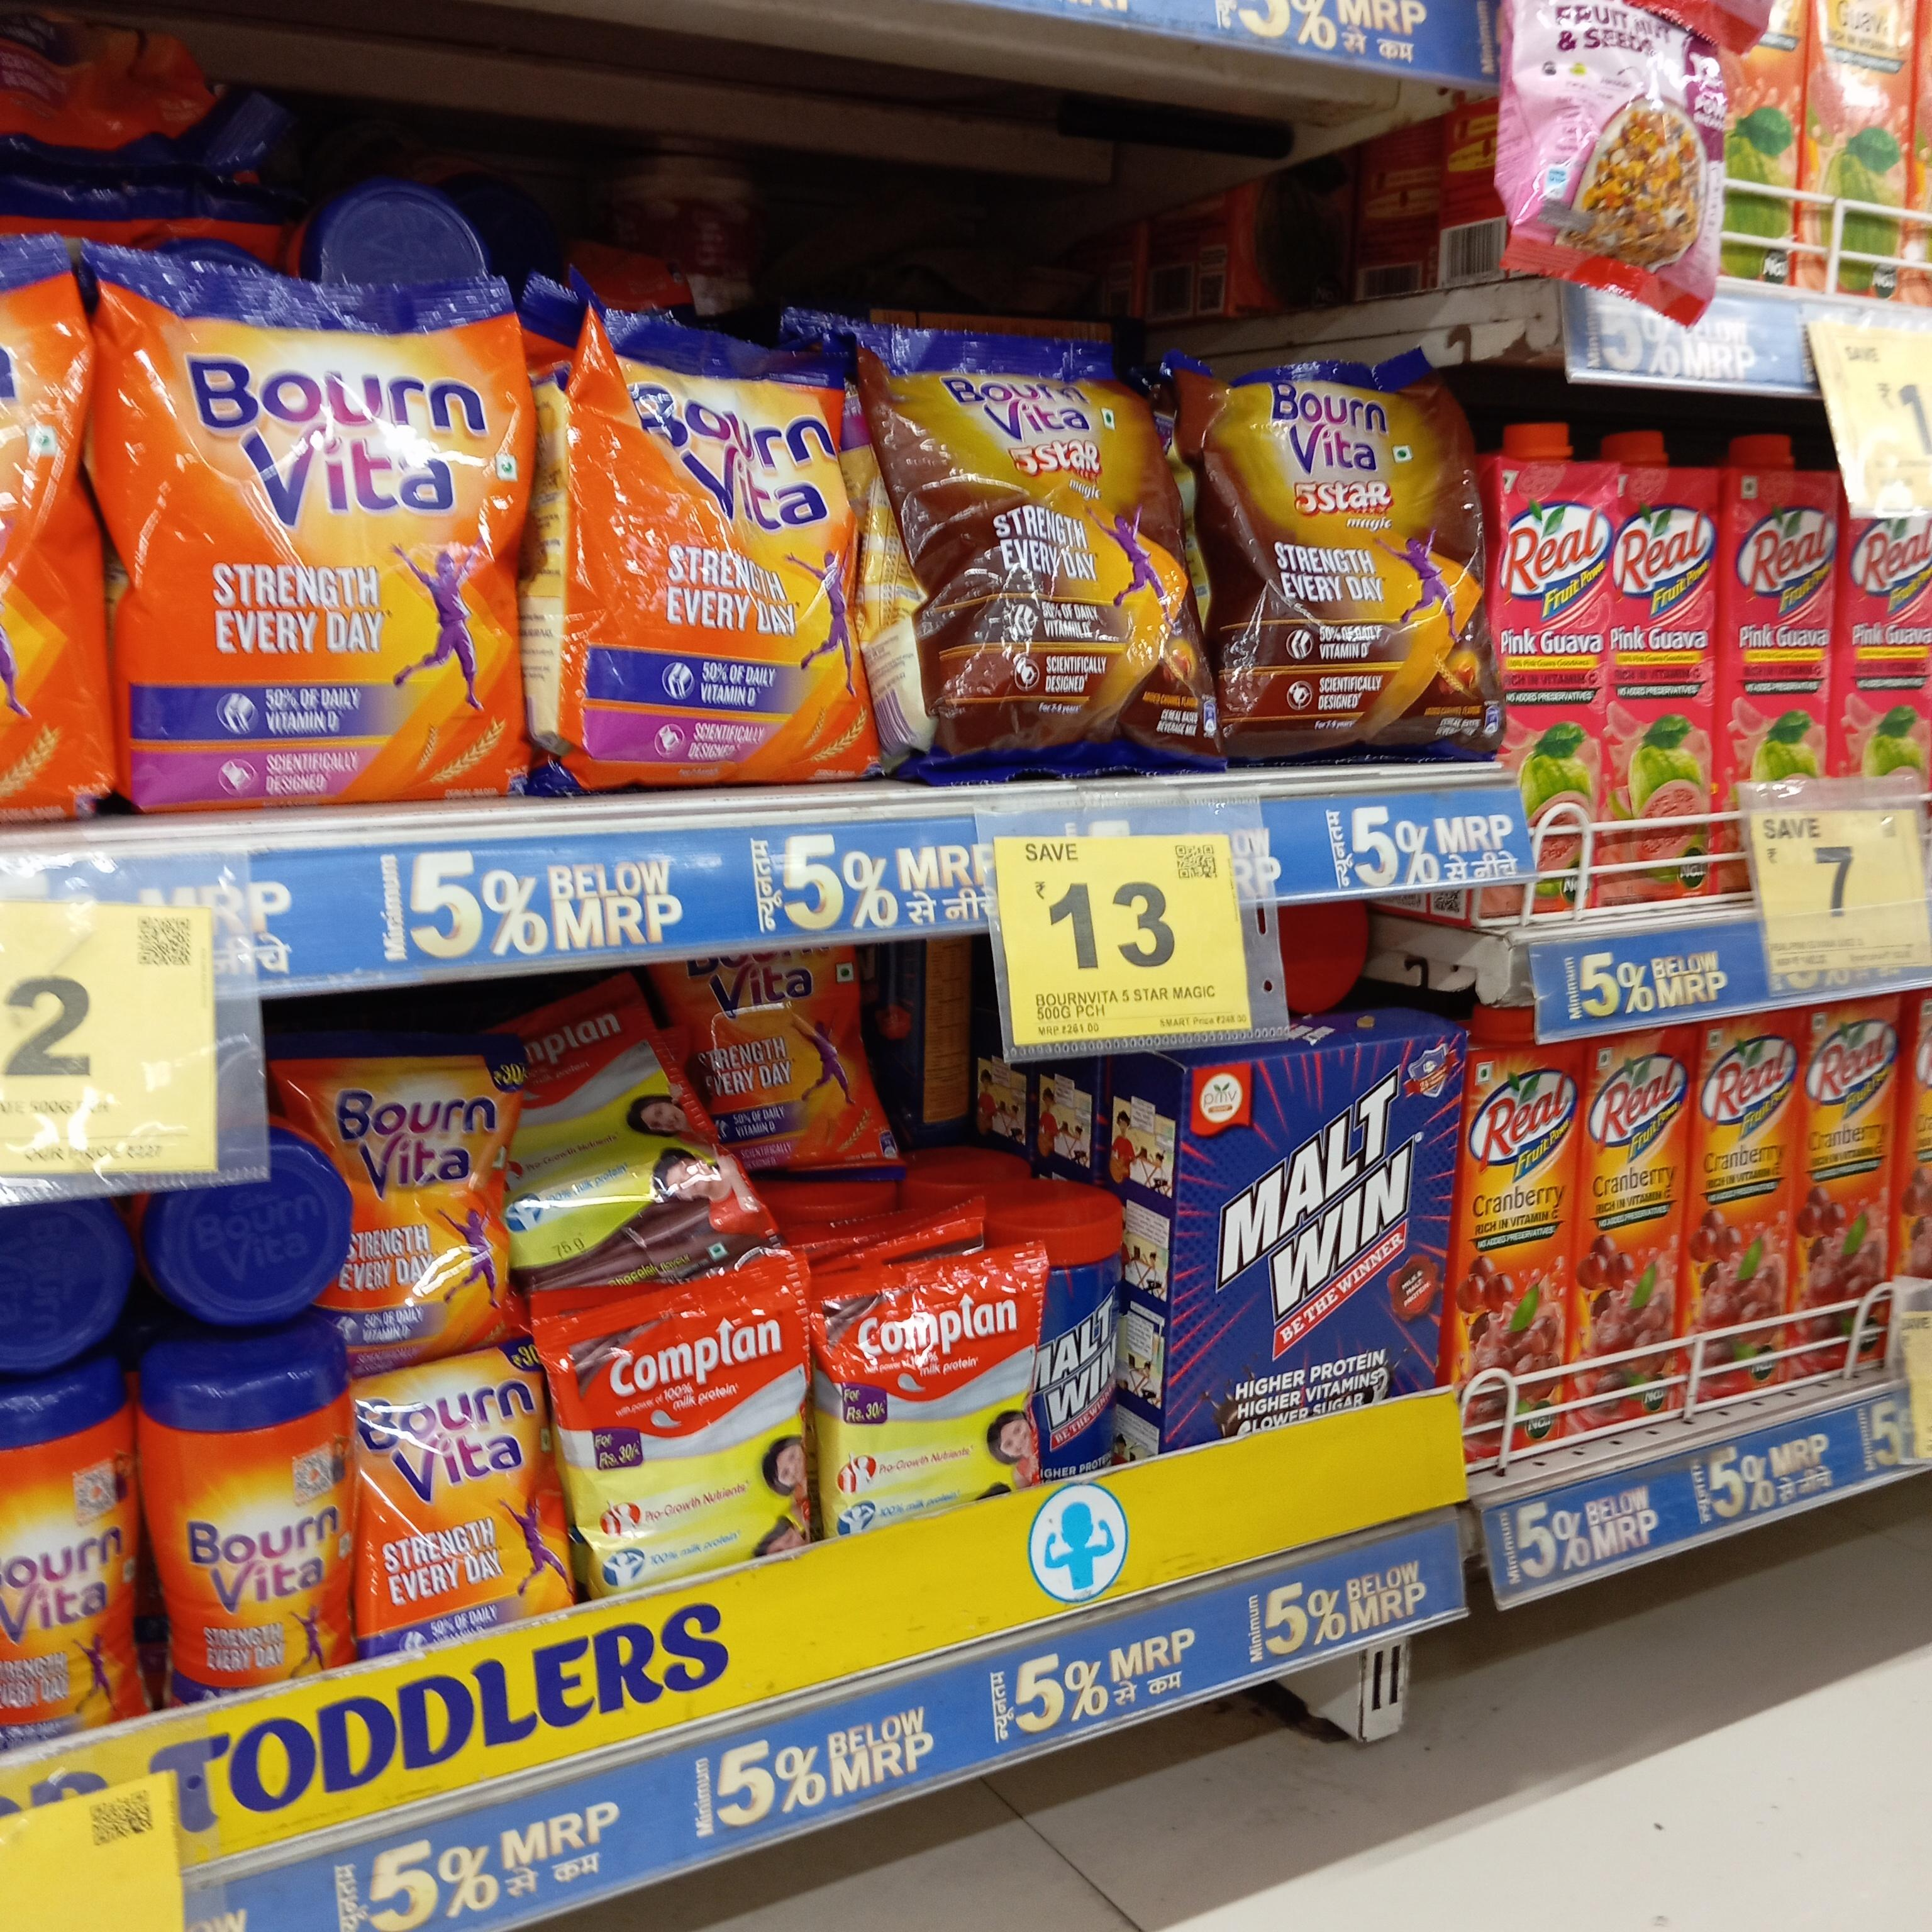BOURN_VITA_200_G_JAR: (159, 1353, 341, 1674), (0, 1376, 142, 1743)
BOURN_VITA_500_G_POUCH: (104, 255, 518, 805), (548, 281, 874, 778)
BOURN_VITA_75_G_POUCH: (354, 1369, 550, 1652), (341, 1039, 513, 1323)
BOURN_VITA_FIVE_STAR_MAGIC_500_G_POUCH: (893, 336, 1180, 747), (1210, 363, 1495, 764)
